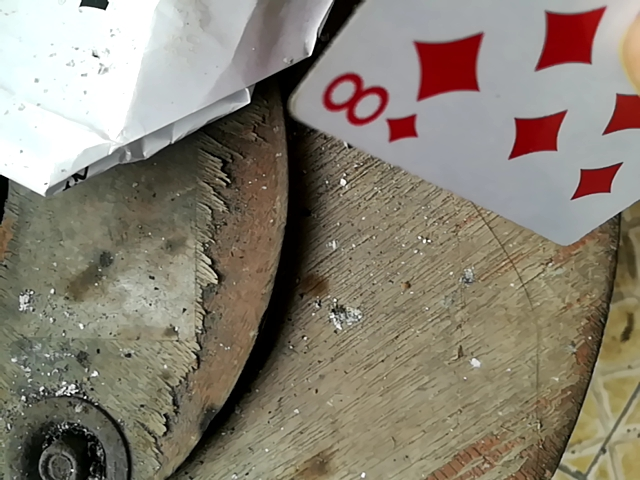fk 8: (270, 0, 640, 257)
